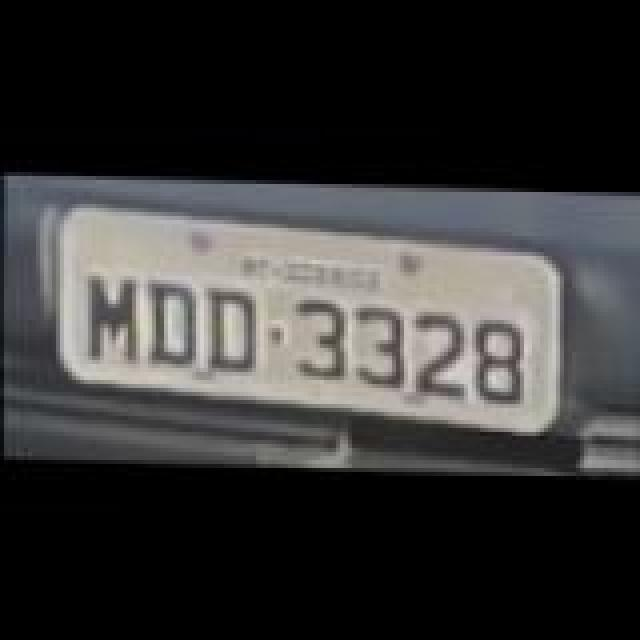2: (416, 308, 468, 396)
3: (296, 296, 348, 376), (356, 302, 408, 382)
8: (474, 316, 522, 400)
D: (146, 276, 202, 364), (206, 282, 262, 366)
M: (88, 270, 140, 358)
